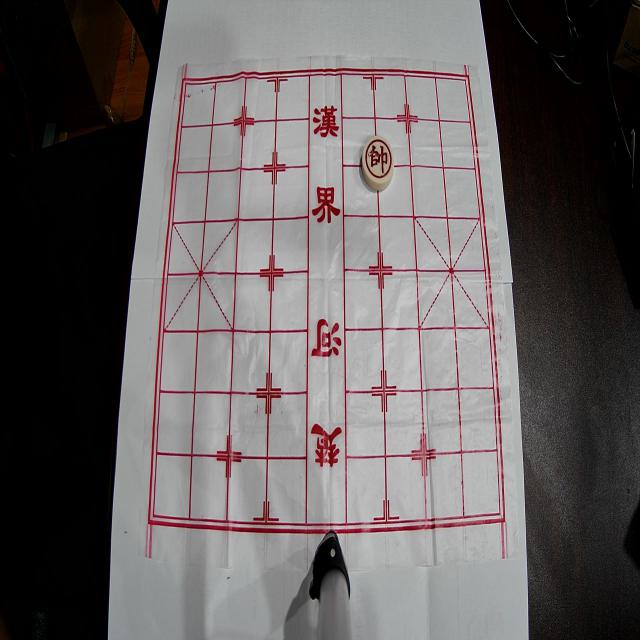red-general: (362, 136, 394, 190)
